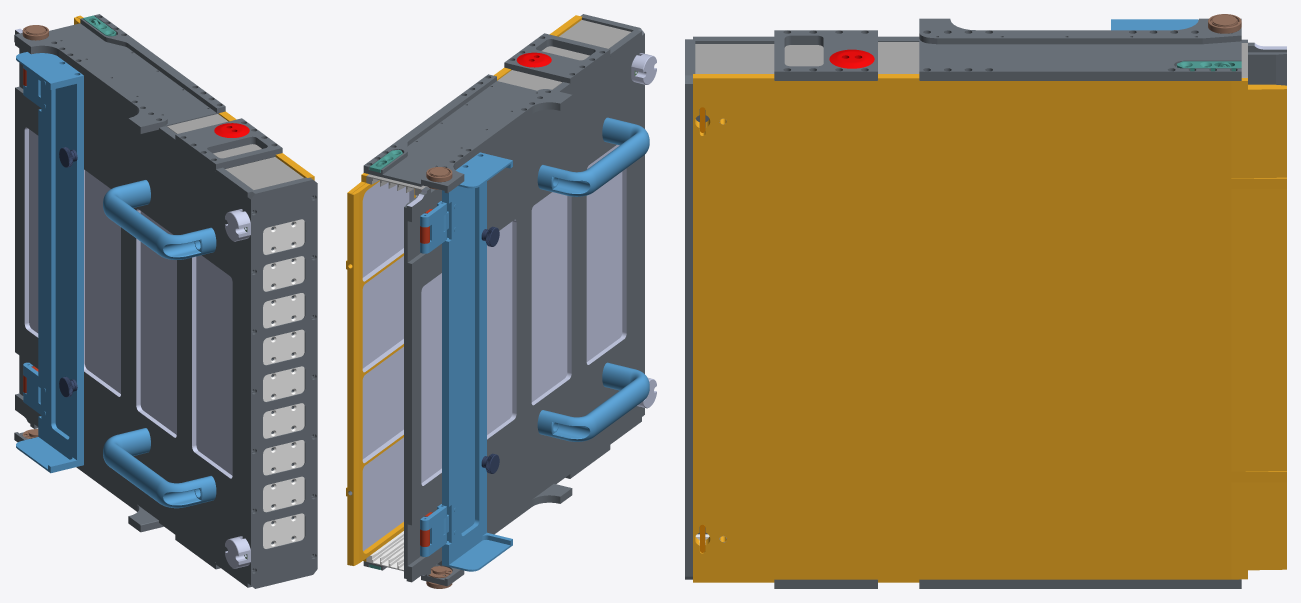
3 views of the same model, side by side, from view 1: azimuth 30°, elevation 25°; view 2: azimuth 150°, elevation 25°; view 3: azimuth 270°, elevation 25° (orthographic). The views are drawn at different scales.
Visible parts, largest first — view 1: f2_040403_671200_01-1, f2_040403_671200_03-1, f2_040403_671220_00-1/f2_040403_671220_01-1, f2_040403_671200_05-1, TY5701_BASHOU_01_1(2)-2, TY5701_BASHOU_01_1(2)-1, f2_040403_671200_07-1, f2_040403_671200_14-1, f2_040403_671220_00-1/f2_040403_671220_03-1, f2_040403_671220_00-1/f2_040403_671220_02-1, f2_040403_671200_04-1, f2_040403_671200_04-5 (+14 smaller); view 2: f2_040403_671200_01-1, f2_040403_671200_02-1, f2_040403_671220_00-1/f2_040403_671220_01-1, f2_040403_671200_05-1, TY5701_BASHOU_01_1(2)-2, TY5701_BASHOU_01_1(2)-1, f2_040403_671200_14-1, f2_040403_671200_07-1, f2_040403_671220_00-1/f2_040403_671220_02-1, f2_040403_671200_06-1, f2_040403_671200_03-1, f2_040403_671220_00-1/f2_040403_671220_03-1 (+5 smaller); view 3: f2_040403_671200_02-1, f2_040403_671200_05-1, f2_040403_671200_14-1, f2_040403_671200_03-1, f2_040403_671200_07-1, f2_040403_671200_06-1, f2_040403_671200_01-1, f2_040403_671200_08-1, f2_040403_671220_00-1/f2_040403_671220_03-1.
Boxes of the visible parts, x1=… form: f2_040403_671200_01-1: x1=15, y1=28, x2=254, y2=587; f2_040403_671200_03-1: x1=247, y1=177, x2=317, y2=588; f2_040403_671220_00-1/f2_040403_671220_01-1: x1=38, y1=79, x2=83, y2=460; f2_040403_671200_05-1: x1=14, y1=14, x2=225, y2=134; TY5701_BASHOU_01_1(2)-2: x1=103, y1=428, x2=216, y2=508; TY5701_BASHOU_01_1(2)-1: x1=103, y1=180, x2=216, y2=259; f2_040403_671200_07-1: x1=175, y1=118, x2=282, y2=171; f2_040403_671200_14-1: x1=167, y1=114, x2=303, y2=189; f2_040403_671220_00-1/f2_040403_671220_03-1: x1=16, y1=52, x2=83, y2=89; f2_040403_671220_00-1/f2_040403_671220_02-1: x1=16, y1=432, x2=83, y2=473; f2_040403_671200_04-1: x1=263, y1=219, x2=304, y2=254; f2_040403_671200_04-5: x1=263, y1=366, x2=304, y2=401; f2_040403_671200_01-1: x1=404, y1=29, x2=641, y2=582; f2_040403_671200_02-1: x1=346, y1=15, x2=582, y2=565; f2_040403_671220_00-1/f2_040403_671220_01-1: x1=442, y1=181, x2=486, y2=560; f2_040403_671200_05-1: x1=363, y1=74, x2=572, y2=193; TY5701_BASHOU_01_1(2)-2: x1=537, y1=362, x2=649, y2=441; TY5701_BASHOU_01_1(2)-1: x1=537, y1=117, x2=649, y2=196; f2_040403_671200_14-1: x1=366, y1=20, x2=630, y2=195; f2_040403_671200_07-1: x1=504, y1=33, x2=610, y2=85; f2_040403_671220_00-1/f2_040403_671220_02-1: x1=442, y1=532, x2=512, y2=571; f2_040403_671200_06-1: x1=363, y1=484, x2=572, y2=586; f2_040403_671200_03-1: x1=580, y1=14, x2=644, y2=416; f2_040403_671220_00-1/f2_040403_671220_03-1: x1=455, y1=152, x2=512, y2=188; f2_040403_671200_02-1: x1=693, y1=74, x2=1286, y2=582; f2_040403_671200_05-1: x1=919, y1=18, x2=1241, y2=80; f2_040403_671200_14-1: x1=695, y1=42, x2=1247, y2=77; f2_040403_671200_03-1: x1=685, y1=39, x2=695, y2=579; f2_040403_671200_07-1: x1=774, y1=30, x2=877, y2=80; f2_040403_671200_06-1: x1=919, y1=579, x2=1241, y2=588; f2_040403_671200_01-1: x1=693, y1=36, x2=1286, y2=534; f2_040403_671200_08-1: x1=774, y1=579, x2=877, y2=588; f2_040403_671220_00-1/f2_040403_671220_03-1: x1=1111, y1=19, x2=1198, y2=30.
Bounding box in the file's own units: 0.131 × 0.4546 × 0.465.
